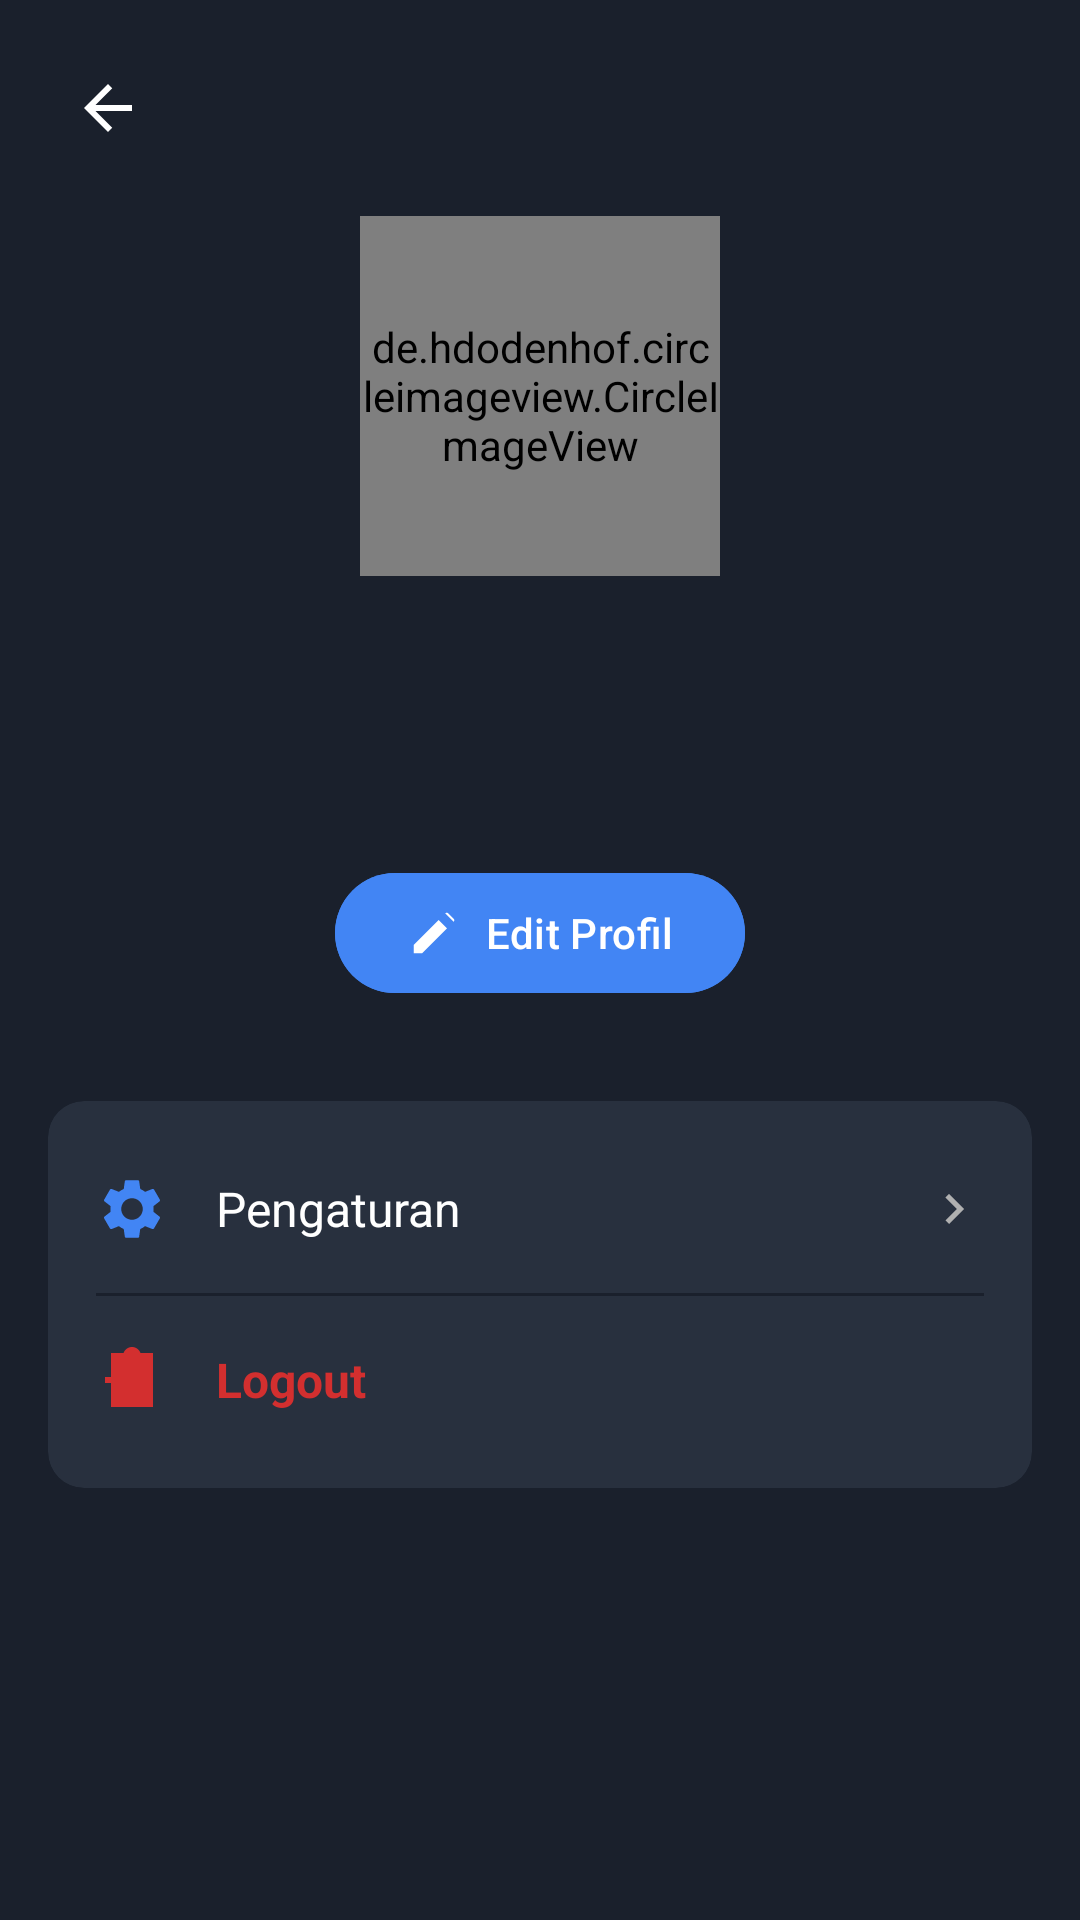

Icon click points for this 1080*1920 phone screenshot, format (x=x, y=y):
arrow right: (x=954, y=1209)
Kembali: (x=108, y=108)
settings: (x=132, y=1209)
